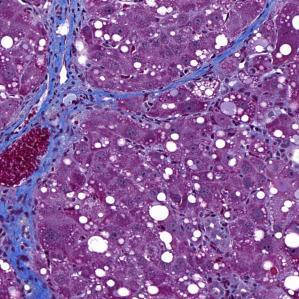fibrosis: (31, 42, 88, 164), (4, 184, 45, 293)
